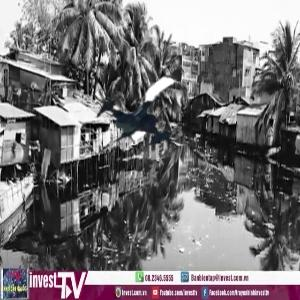drone: (95, 57, 206, 168)
